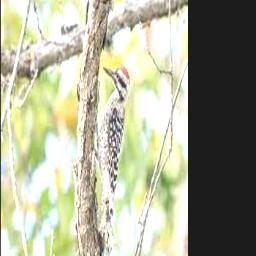Woodpecker: (95, 65, 130, 256)
